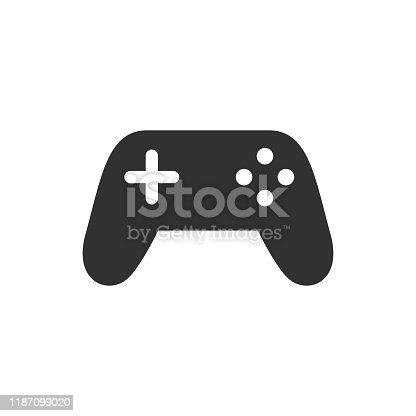controller: (83, 130, 334, 287)
